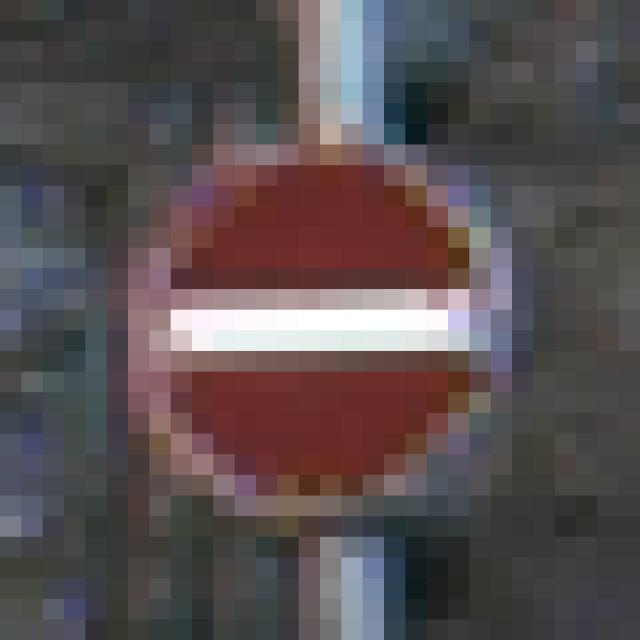No Entry: (108, 104, 534, 538)
